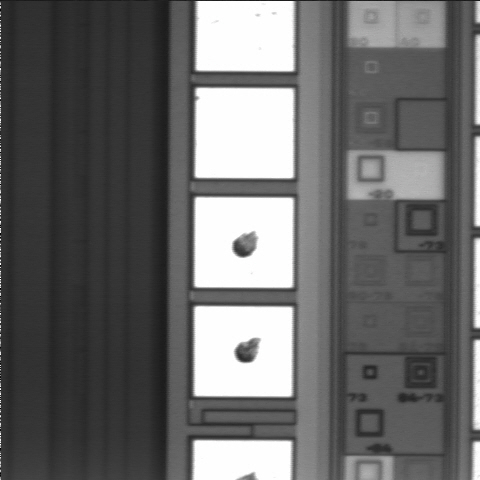pad: (194, 306, 293, 397), (195, 197, 293, 288), (195, 88, 294, 178)
